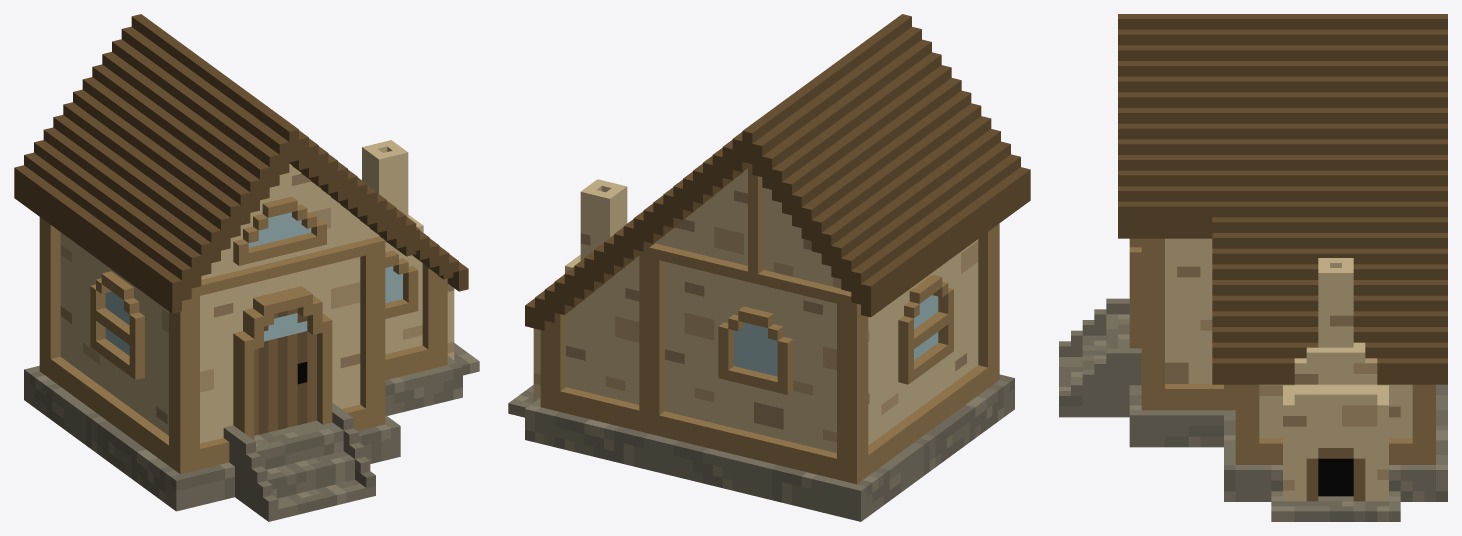
Rendered from house4.vox.obj.
The picture shows the model from 3 angles, left to right: view 1: azimuth 30°, elevation 25°; view 2: azimuth 150°, elevation 25°; view 3: azimuth 270°, elevation 25°; orthographic projection. The views are drawn at different scales.
Bounding box in the file's own units: 3.9 × 3.5 × 3.3.
1 material, 1 textured.
